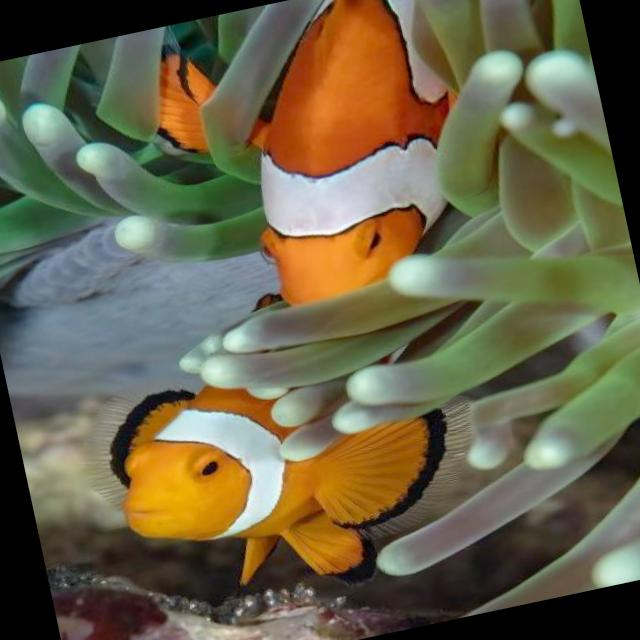ClownFish: (137, 0, 490, 329), (98, 324, 480, 624)
